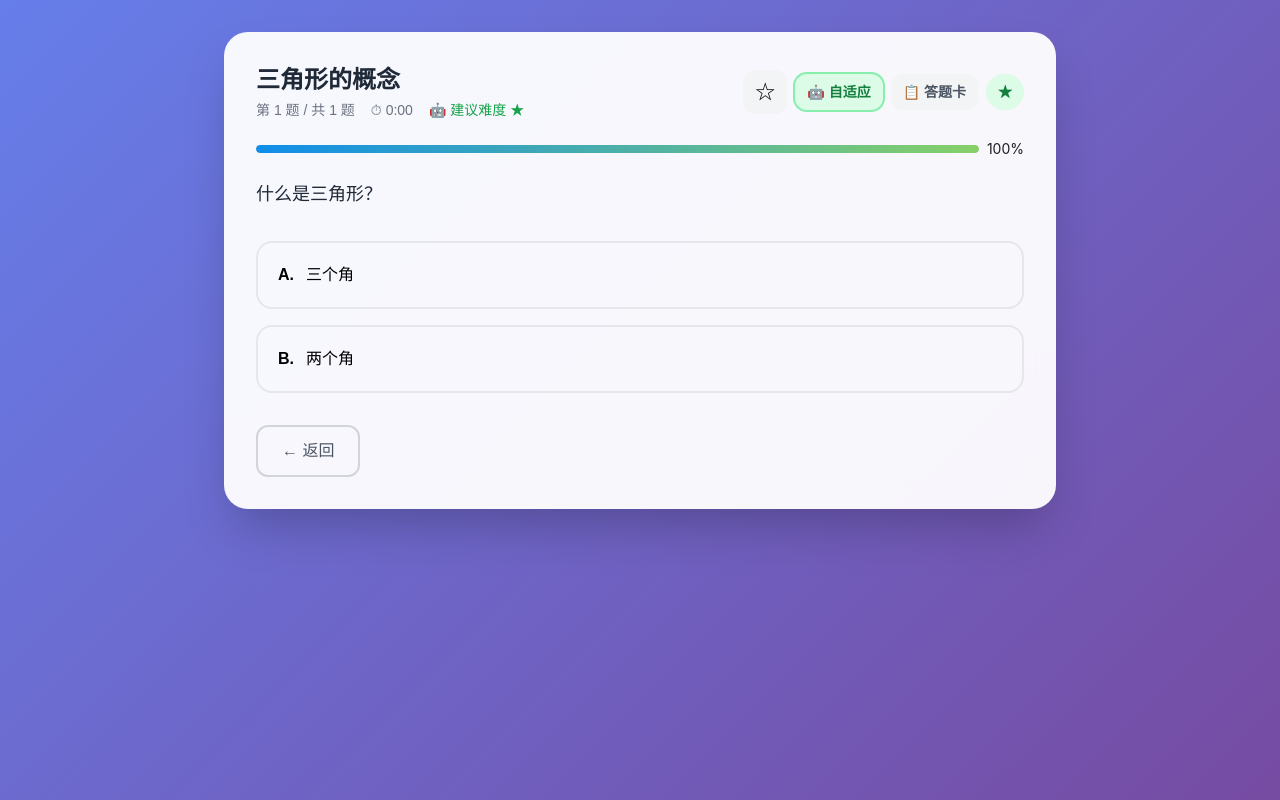
Scenario: Quiz 页面测试 › 3. 点击选项后显示结果
Check: the text "什么是三角形？" is shown, box [256,184,382,204]
Click the button "A.三个角".
click(330, 275)  # box [256,241,1024,309]
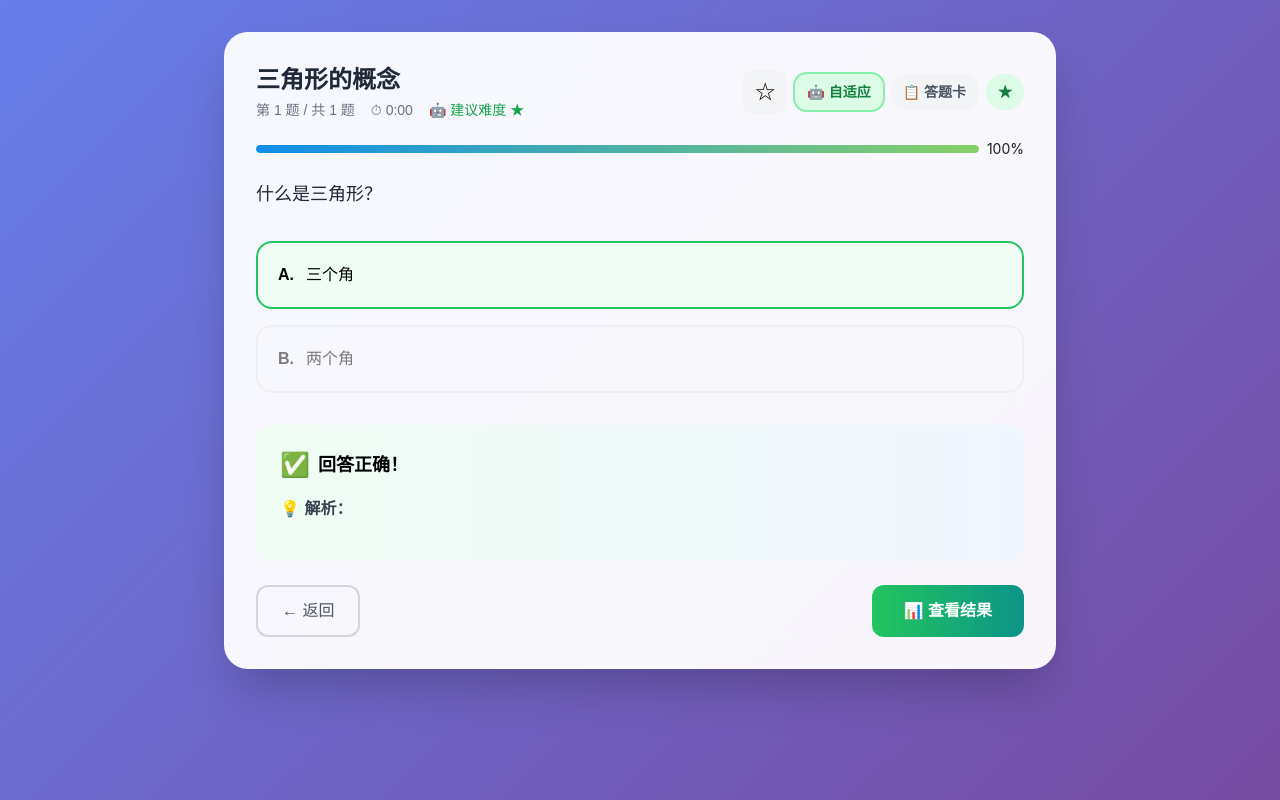
Check: the text "回答正确！" is shown, box [318,451,408,479]
